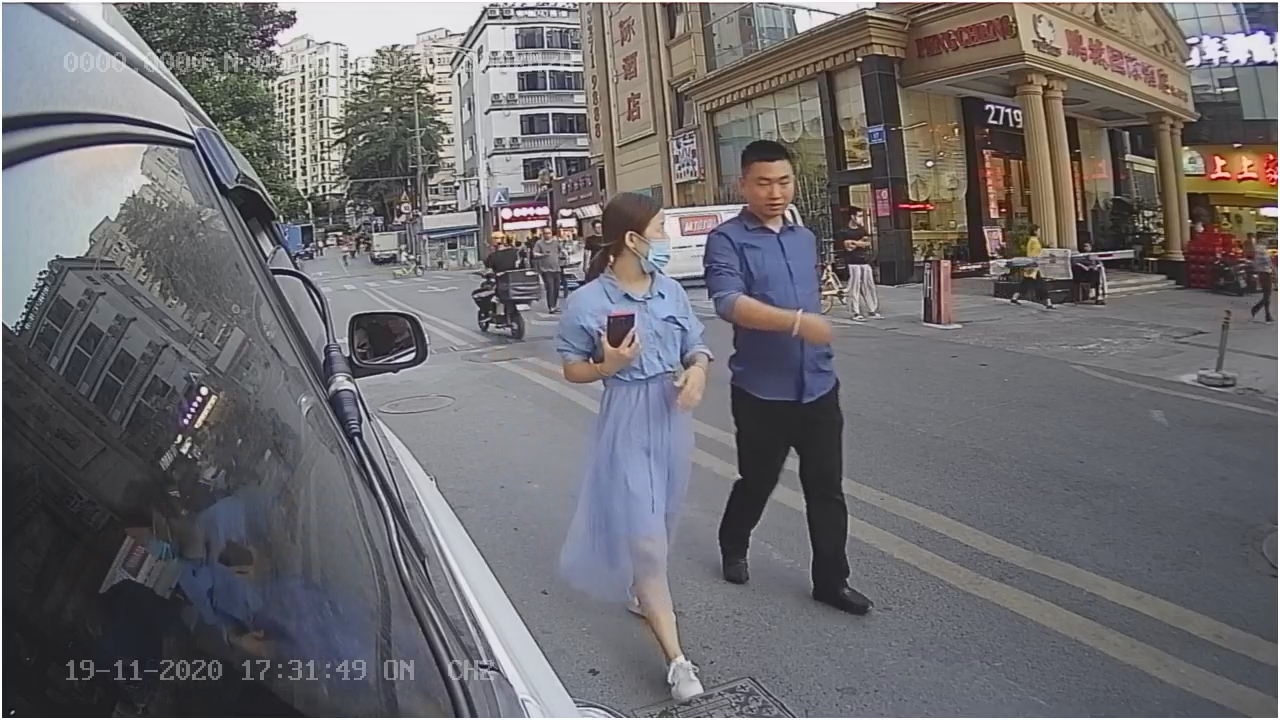person: (715, 142, 866, 591), (558, 193, 709, 610)
